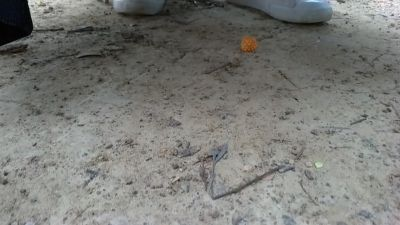eggs: (238, 32, 260, 56)
